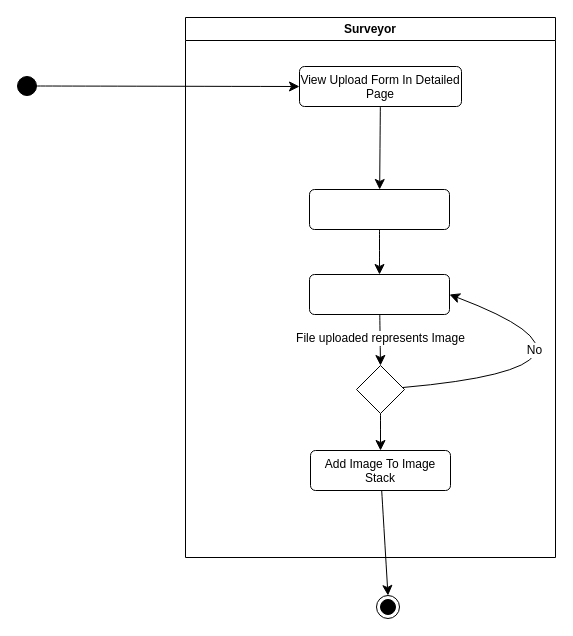
The diagram is 573 pixels wide and 636 high, and some of its shapes have lost their labels. Each missing label, with the centre of its shape:
"Click On Upload Form" belongs at (x=379, y=209).
"Select One Or More Images To Upload" belongs at (x=379, y=294).
